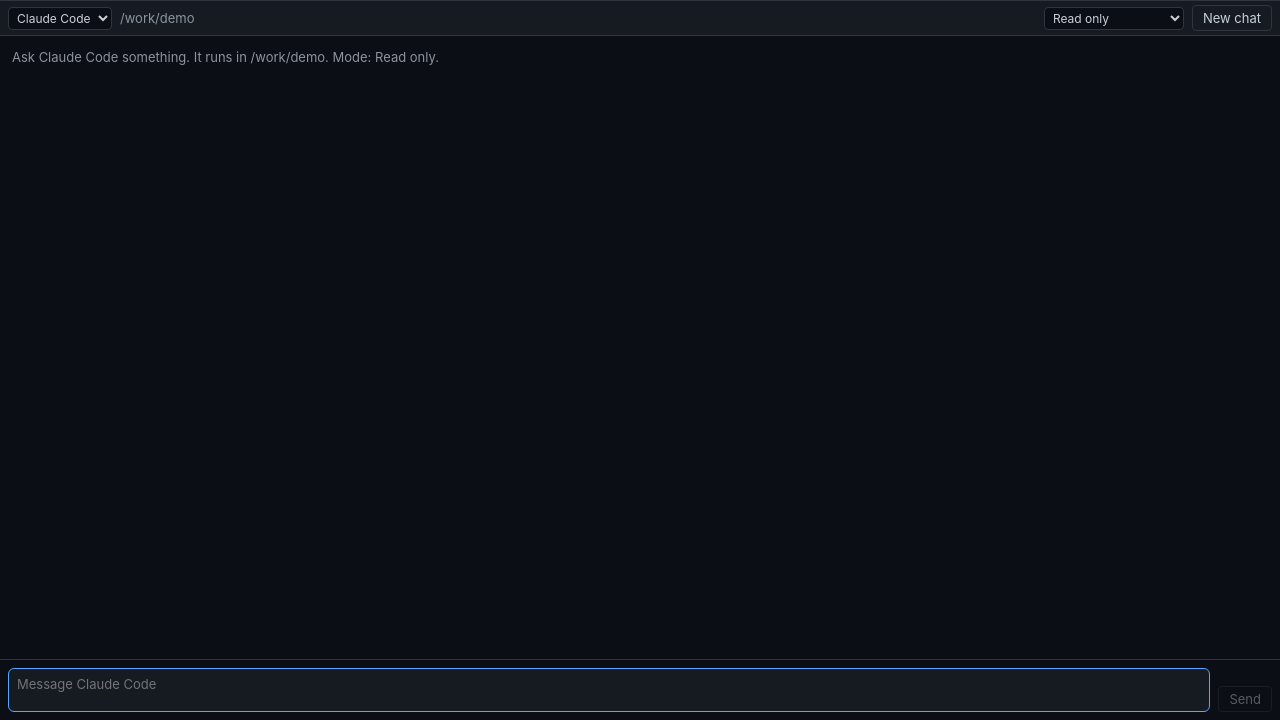
Test: ChatPane › stops a run with agent_cancel and marks the message as stopped
The width and height of the screenshot is (1280, 720).
Type "hi" into the text box labelled "Message" at (609, 690), box [8,668,1210,712]
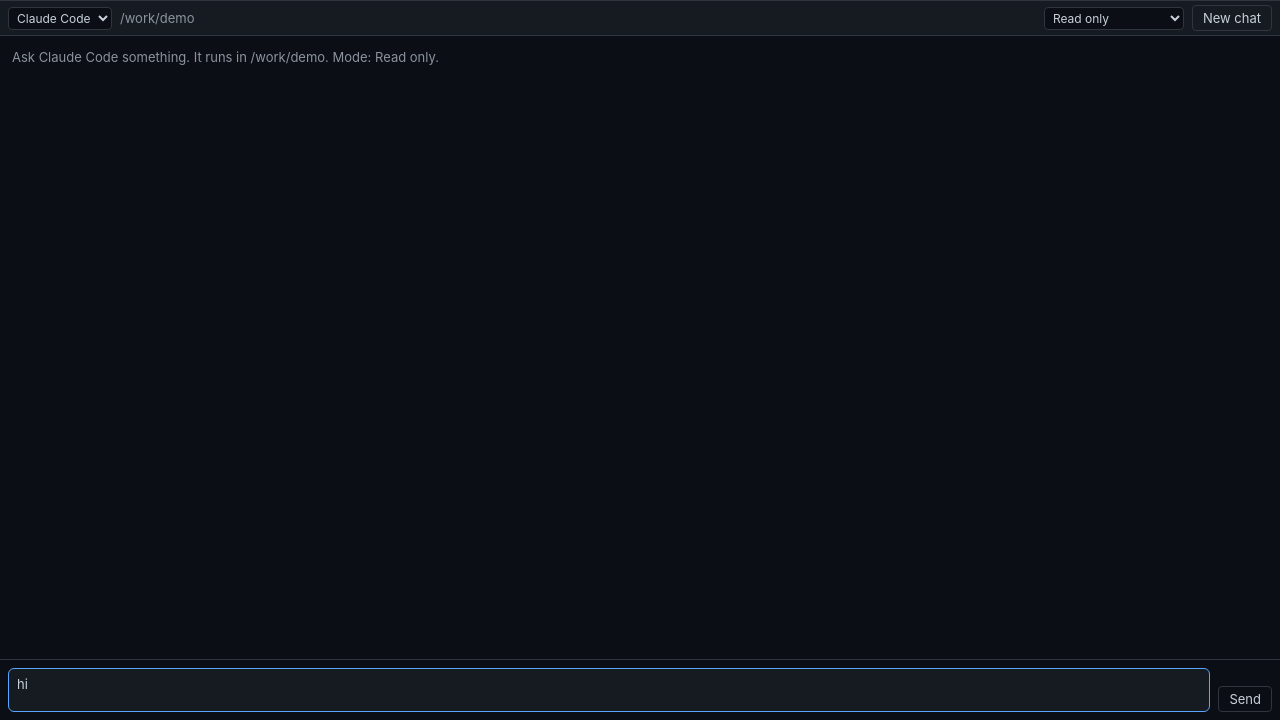
Click the button "Send" at (1245, 699), box [1218,686,1272,712]
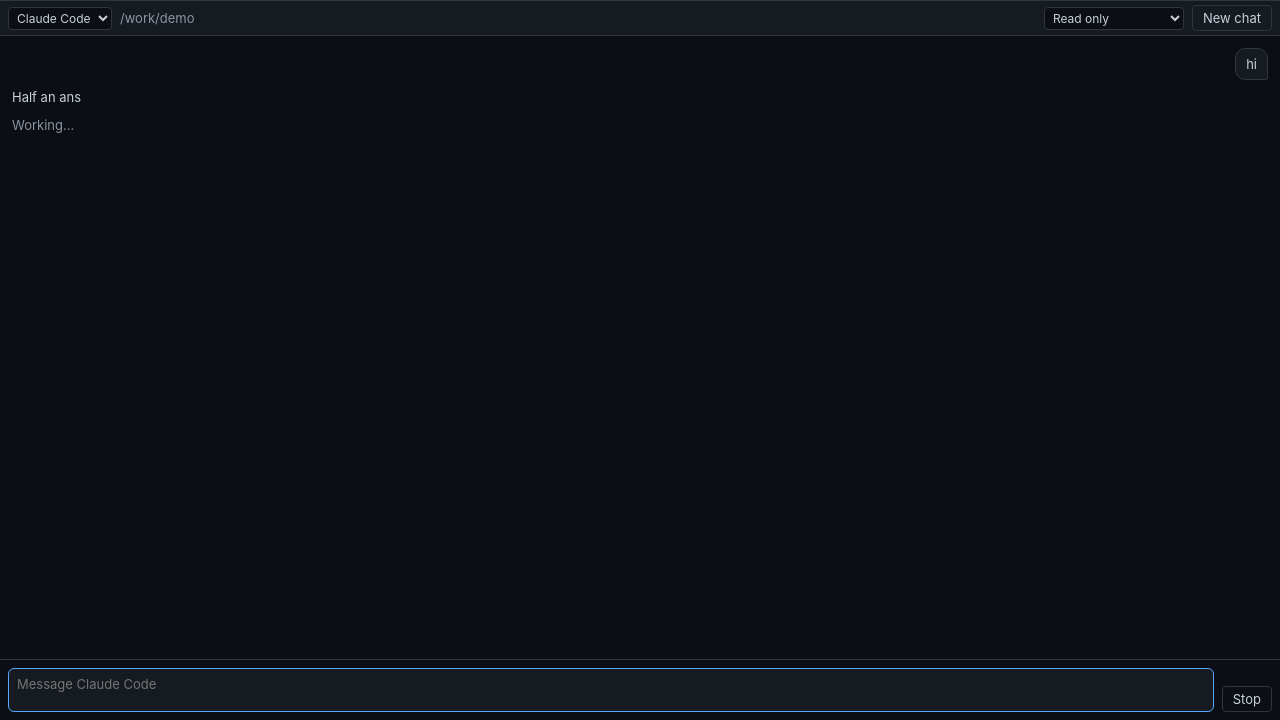
Click the button "Stop" at (1247, 699), box [1222,686,1272,712]
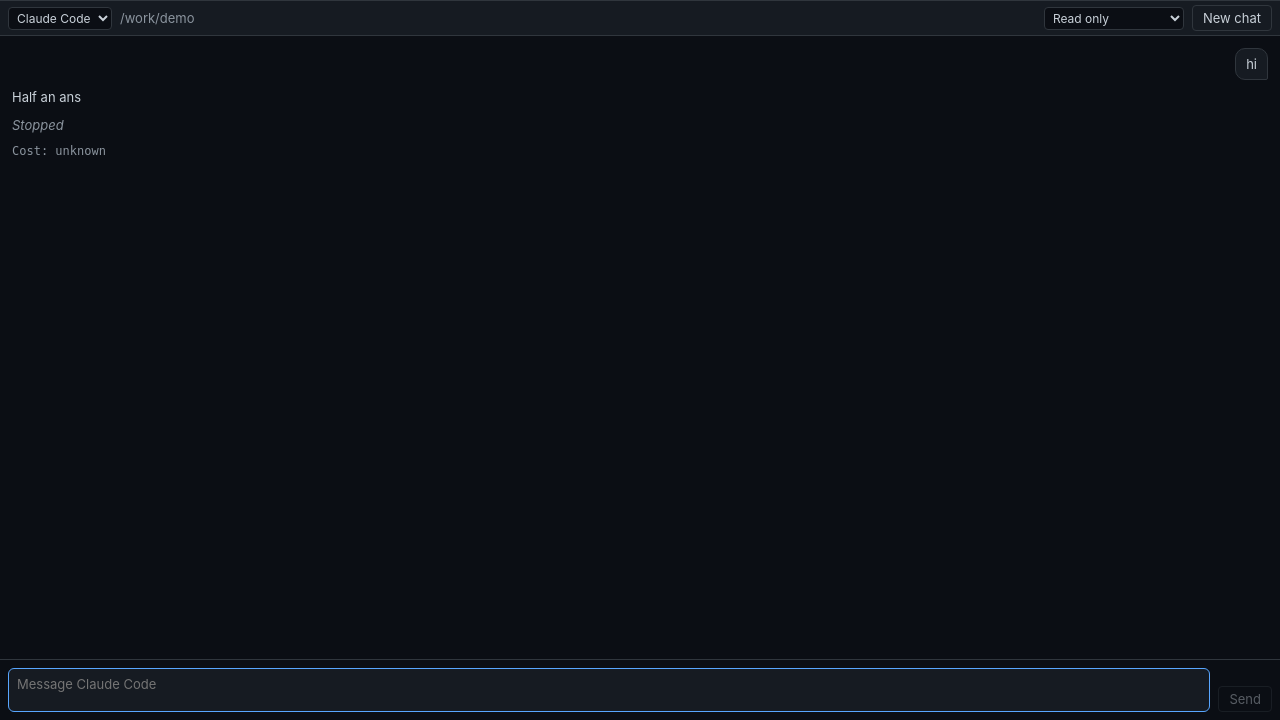
Expected: the button "Send" is shown, [1218,686,1272,712]
